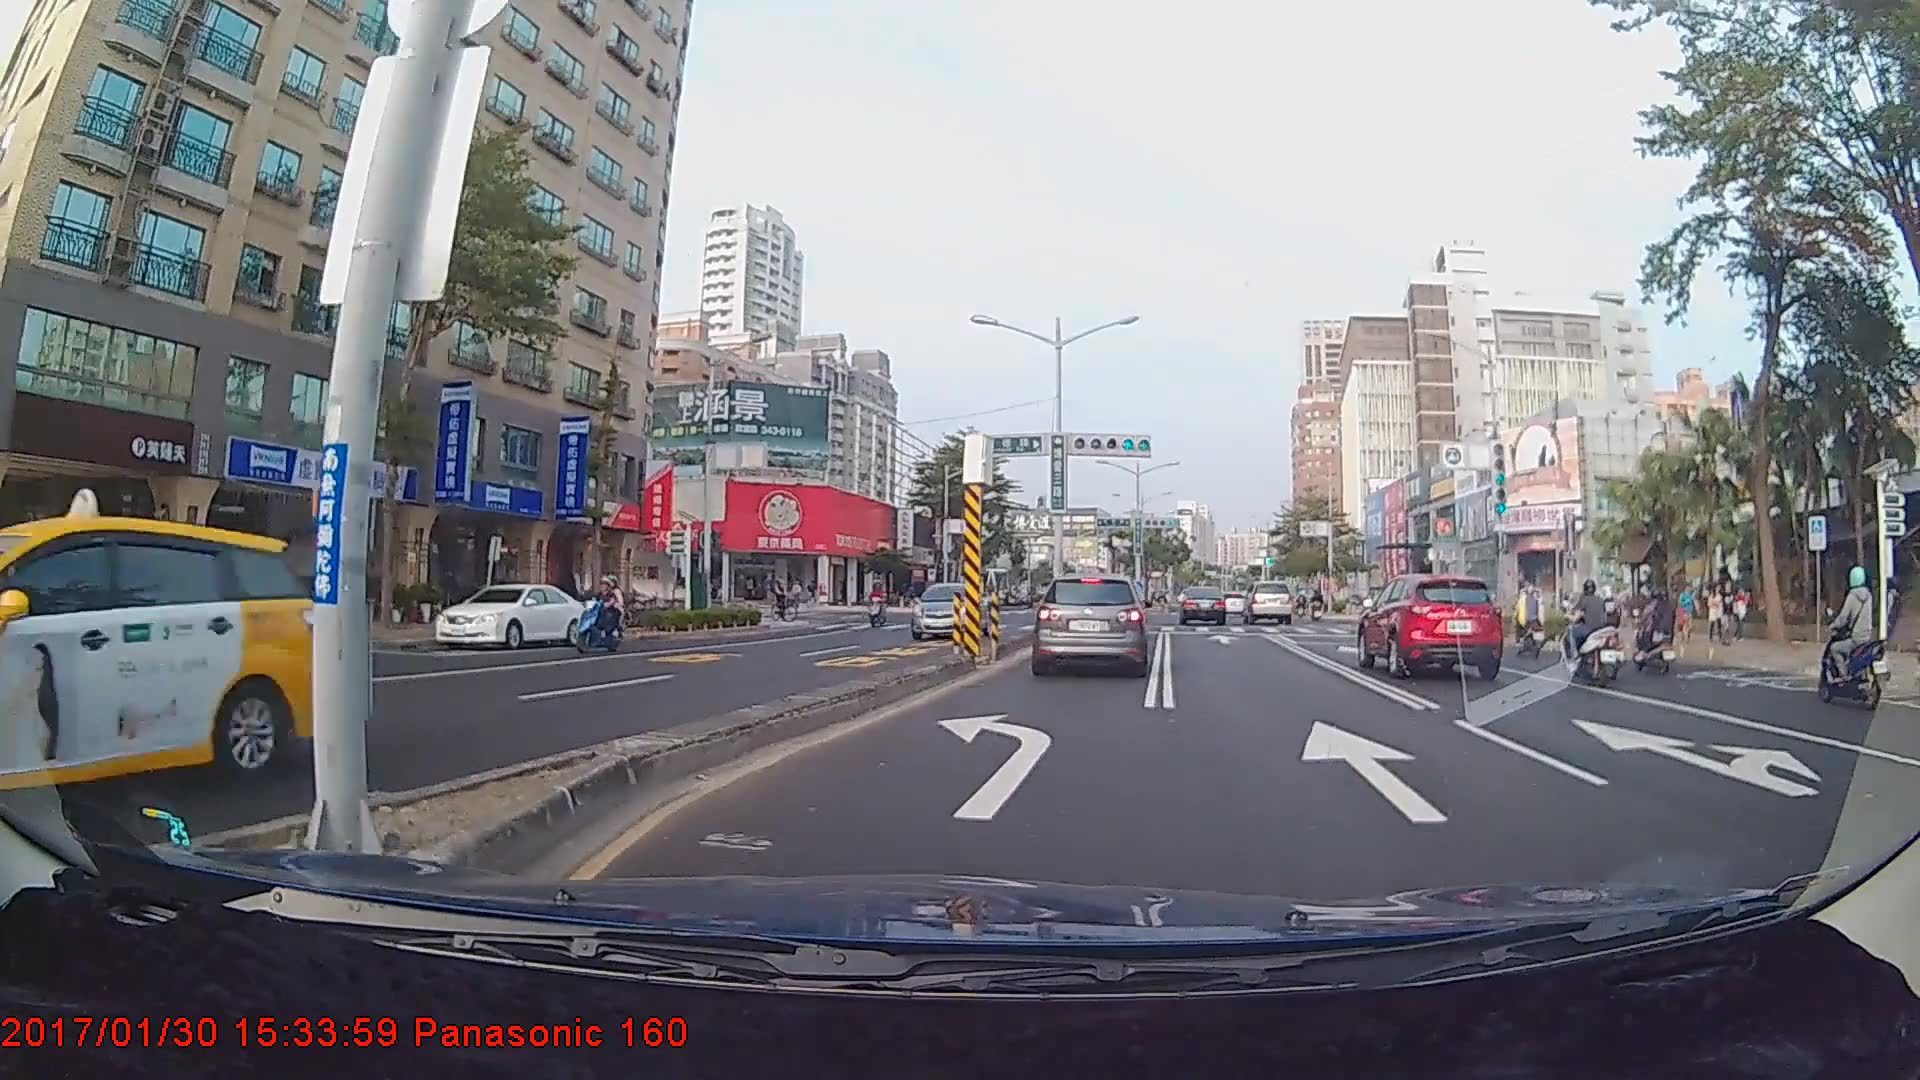pedestrian: (1677, 580, 1700, 647), (1707, 581, 1727, 642), (1719, 581, 1739, 644)
rider: (1807, 565, 1888, 713), (1554, 573, 1624, 682), (567, 574, 629, 659), (1624, 580, 1676, 674), (861, 577, 891, 631), (765, 576, 795, 627)
vehicle: (0, 513, 332, 814), (1357, 570, 1505, 678), (1032, 572, 1150, 676), (431, 582, 590, 650), (907, 581, 987, 638), (1242, 580, 1293, 625), (1178, 584, 1226, 626)
